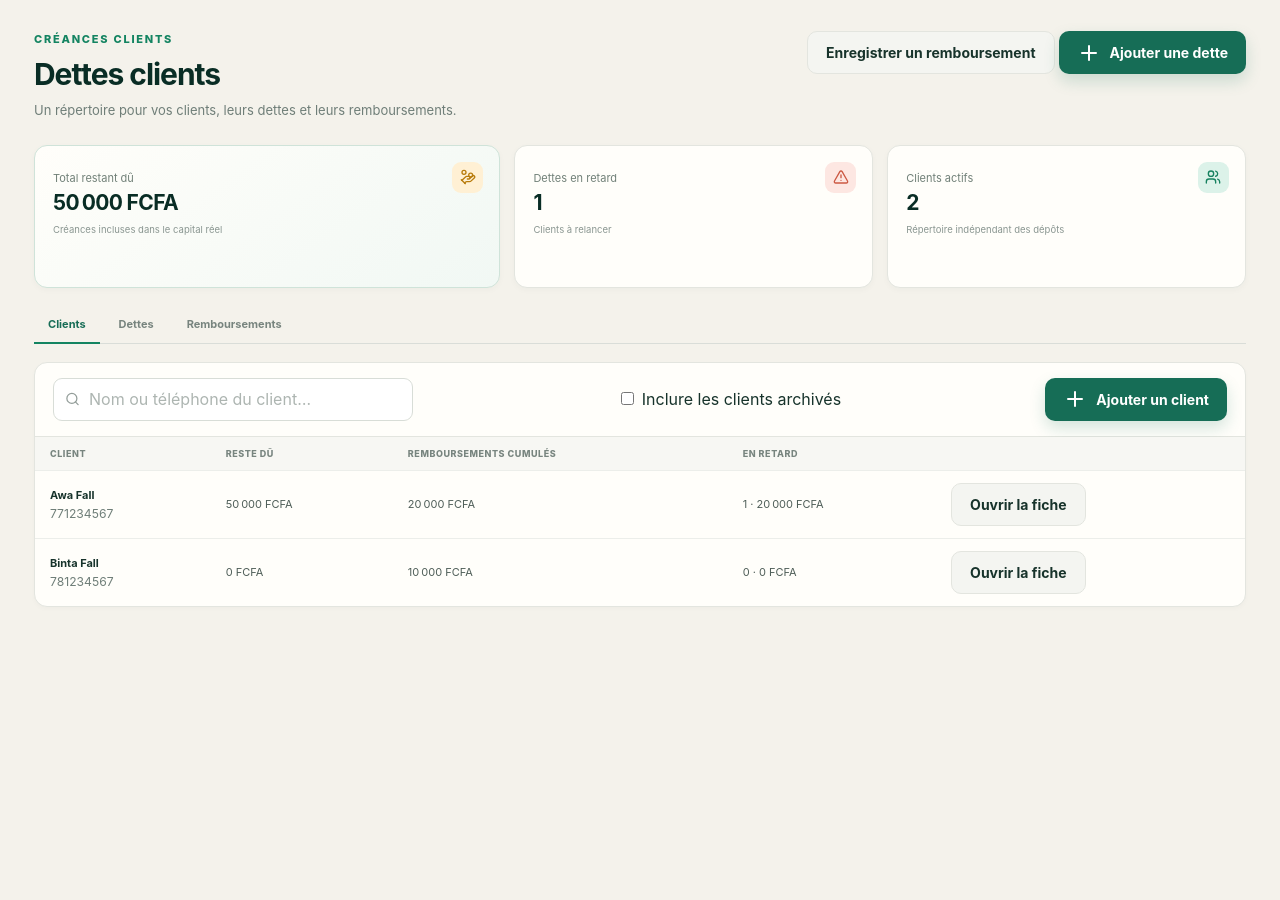
Test: clients des dettes et remboursements globaux › filtre les reçus par leur date propre et montre le total et le détail historique
Expected: the text "Awa Fall" is shown, [50,488,94,502]
Click the tab "Remboursements".
click(234, 325)  # box [173,306,296,344]
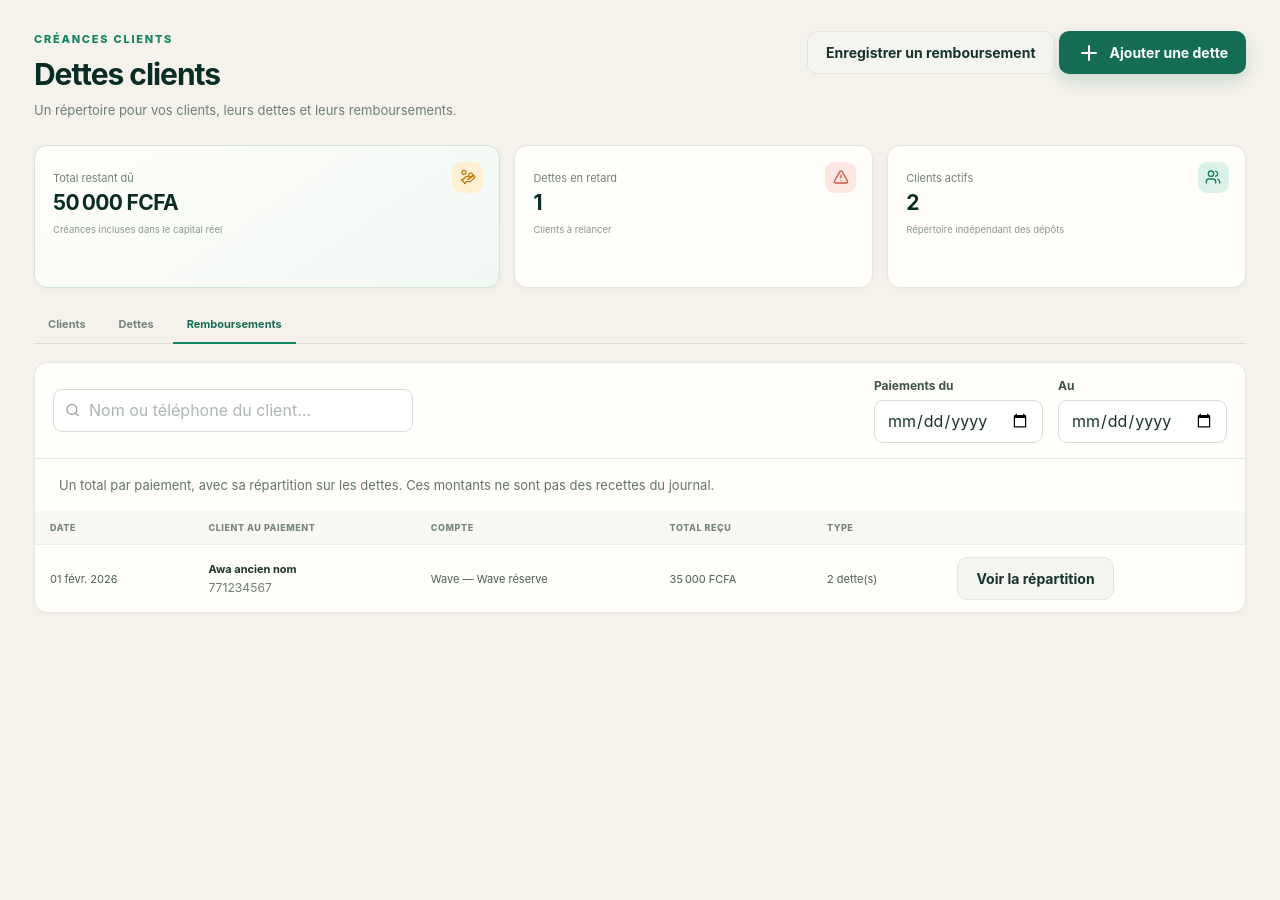
Type "2026-02-01" into the date field labelled "Paiements du".
click(958, 421); type("2026-02-01")  # box [874,400,1043,443]
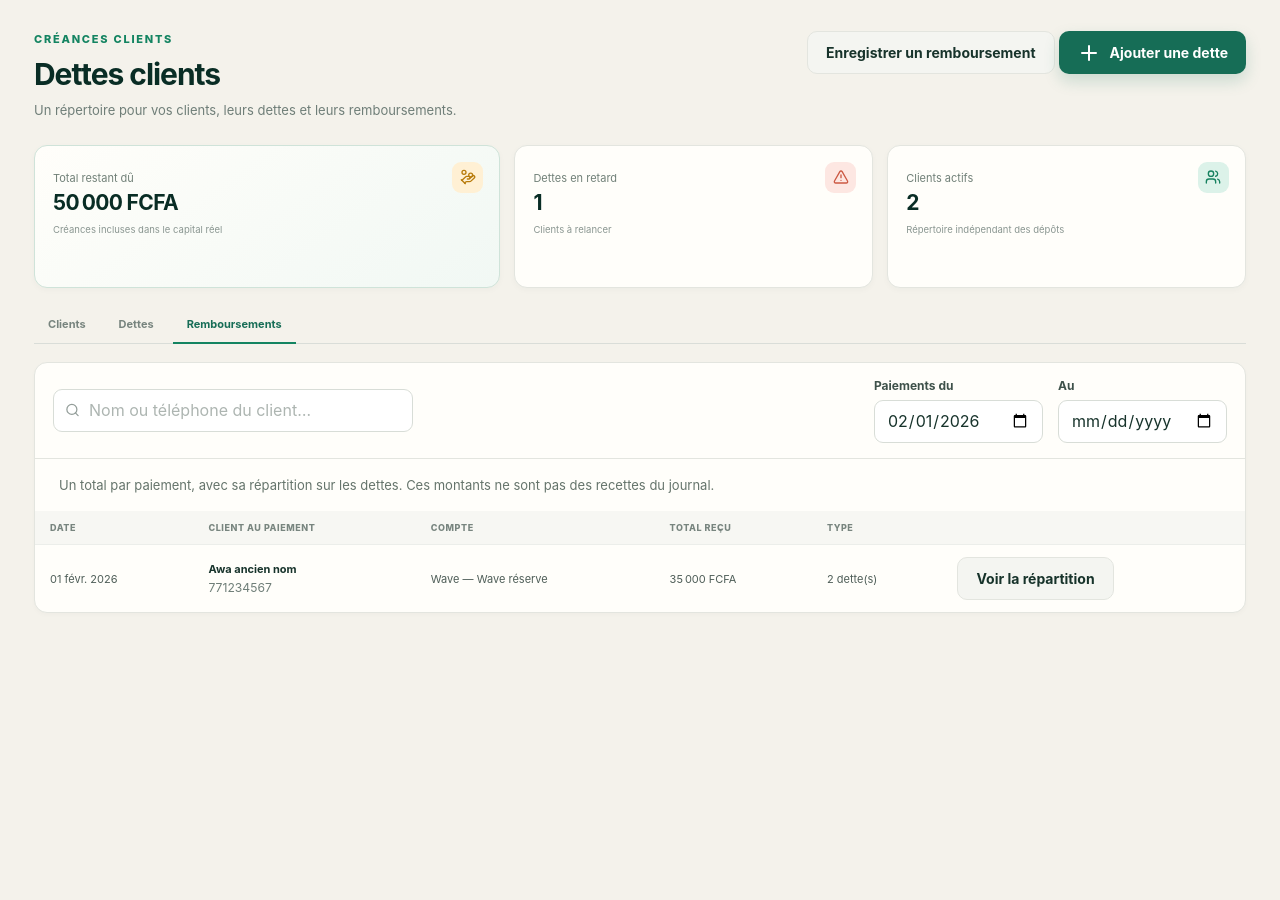
Type "2026-02-28" into the date field labelled "Au".
click(1142, 421); type("2026-02-28")  # box [1058,400,1227,443]
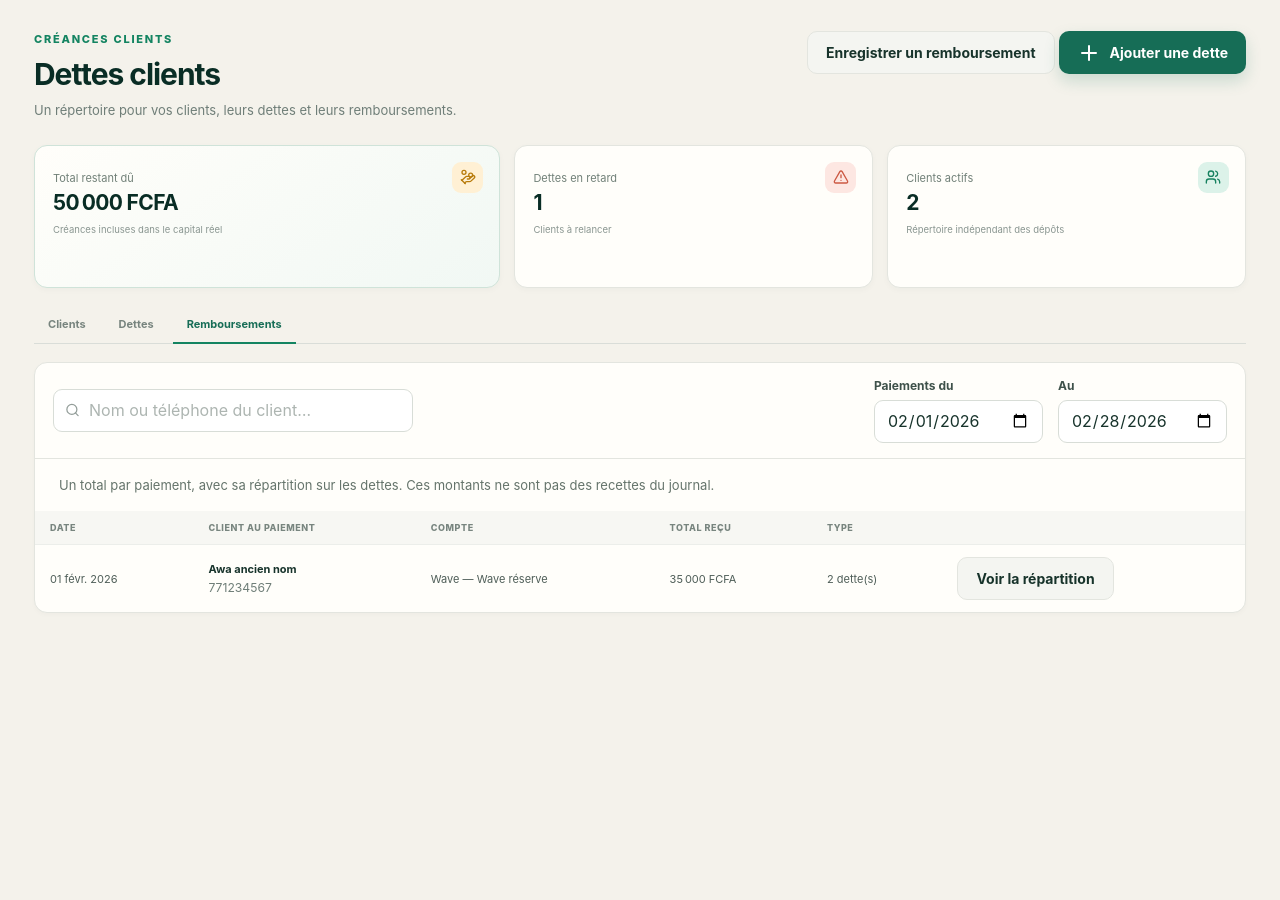
Click the button "Voir la répartition".
click(1036, 579)  # box [958,558,1114,600]
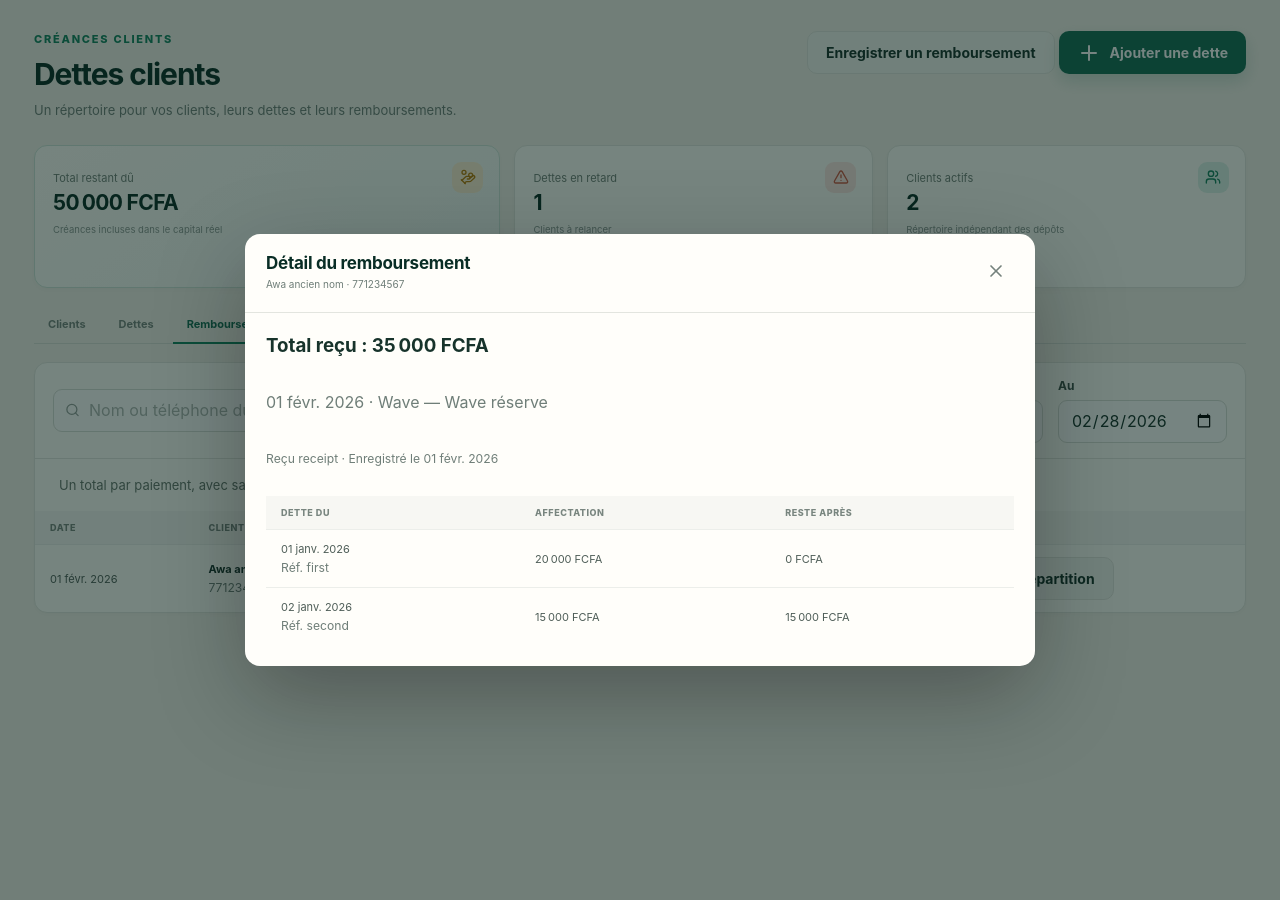
Expected: the dialog shows "Awa ancien nom", [266,278,404,290]
Click the button named "Fermer".
click(996, 271)  # box [978,253,1014,289]
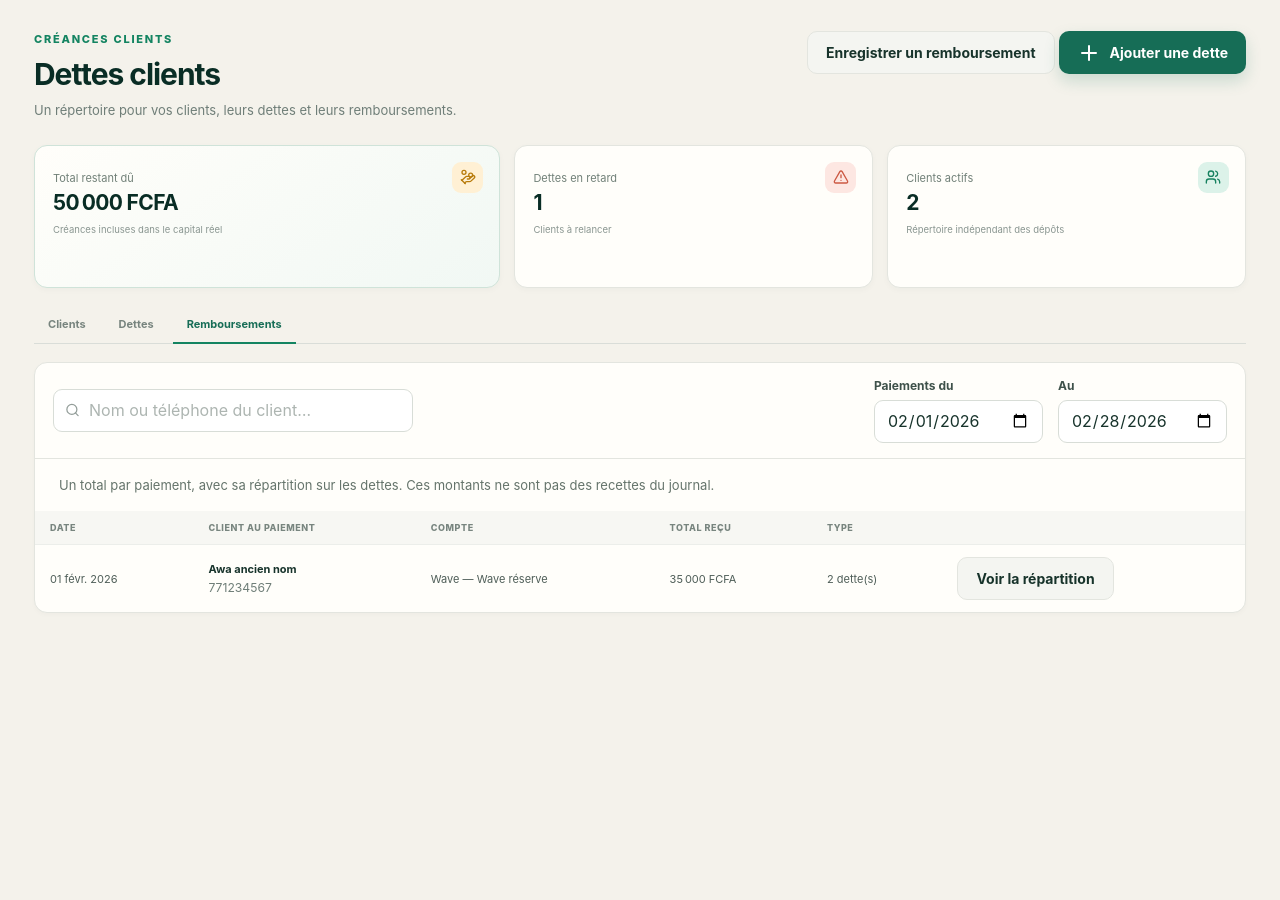
Type "2026-03-01" into the date field labelled "Paiements du".
click(958, 421); type("2026-03-01")  # box [874,400,1043,443]
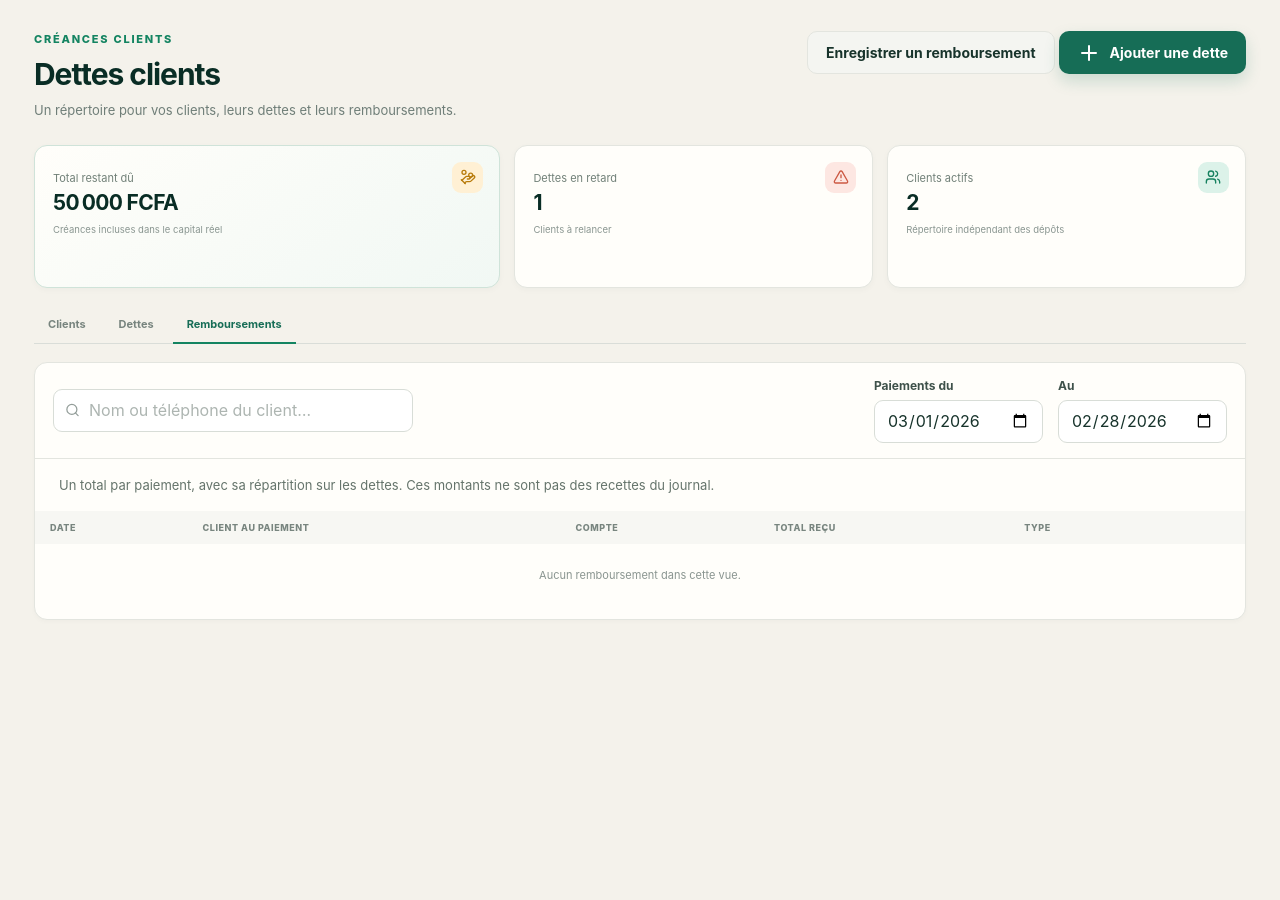
Expected: the button "Voir la répartition" is gone
